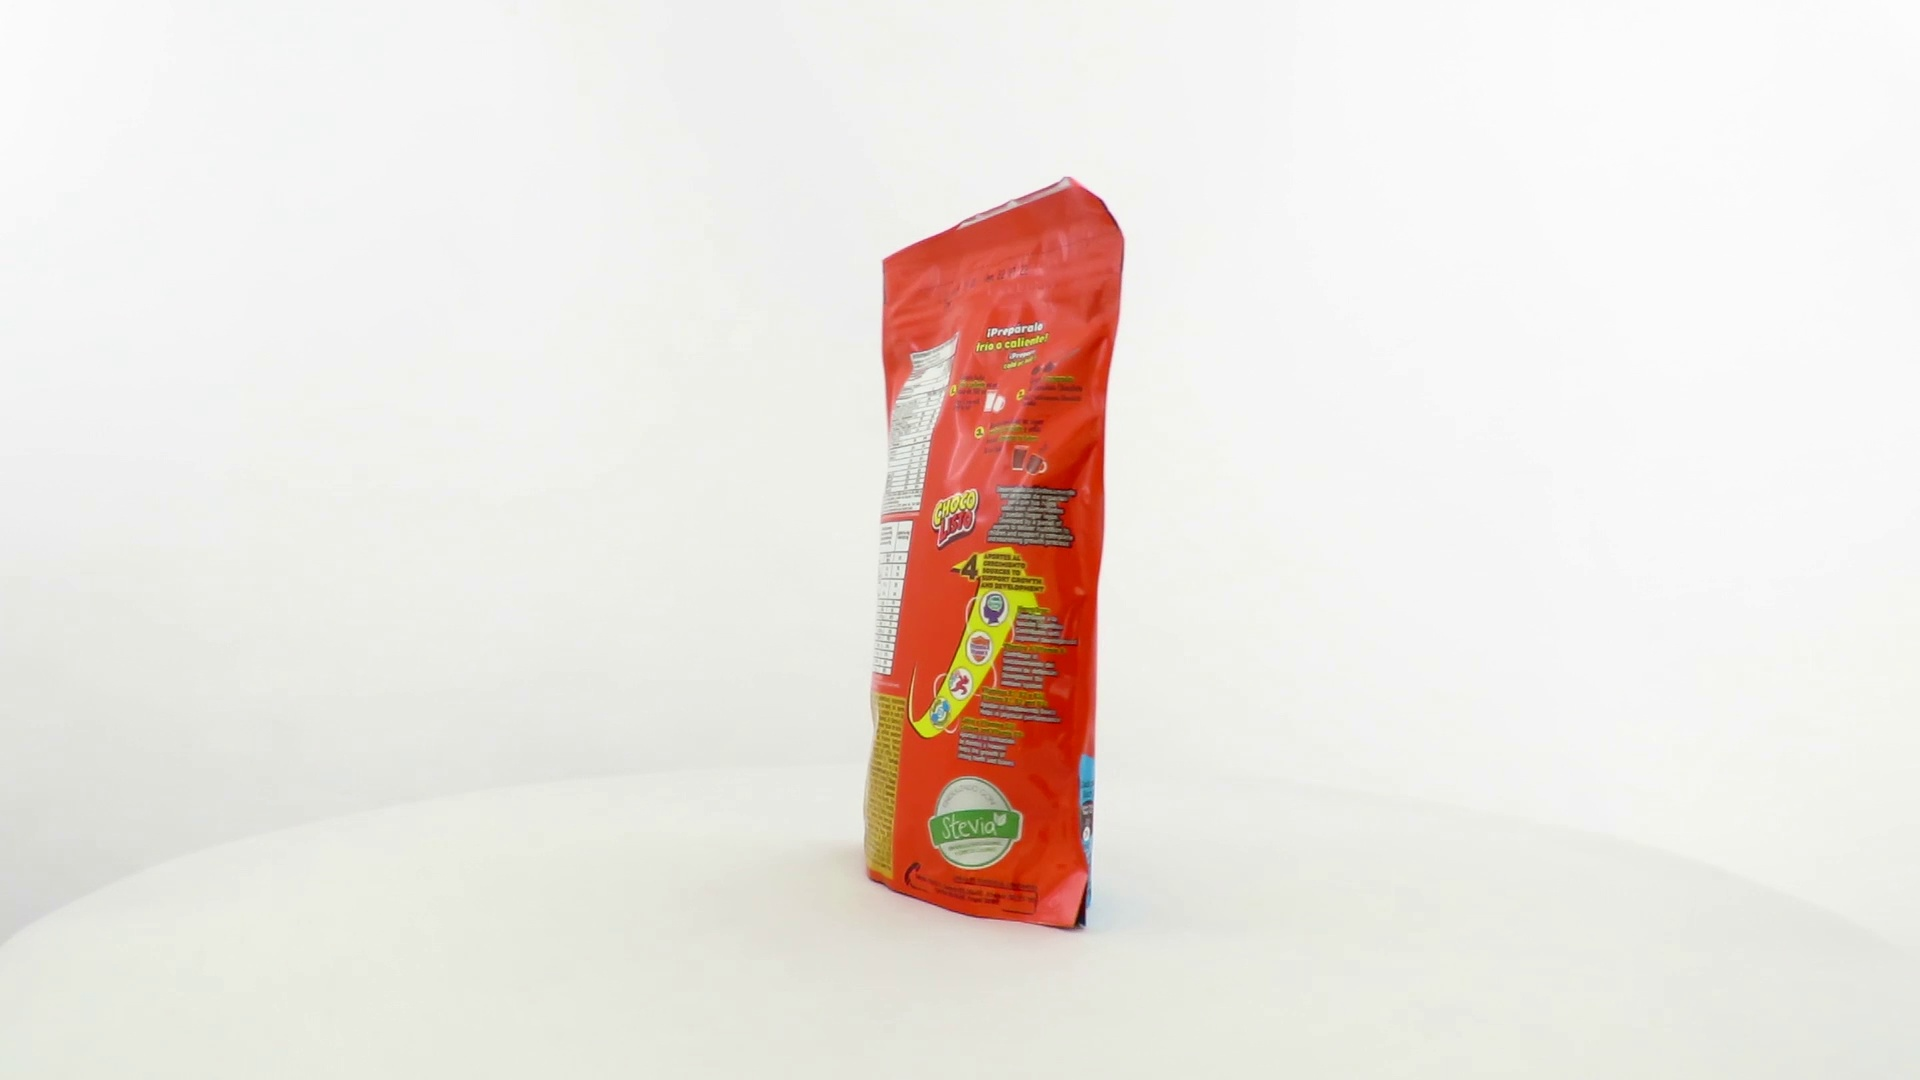COL0170104DYP20000: (858, 171, 1131, 938)
